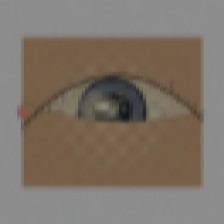corneal_ulcer: (73, 84, 129, 129)
